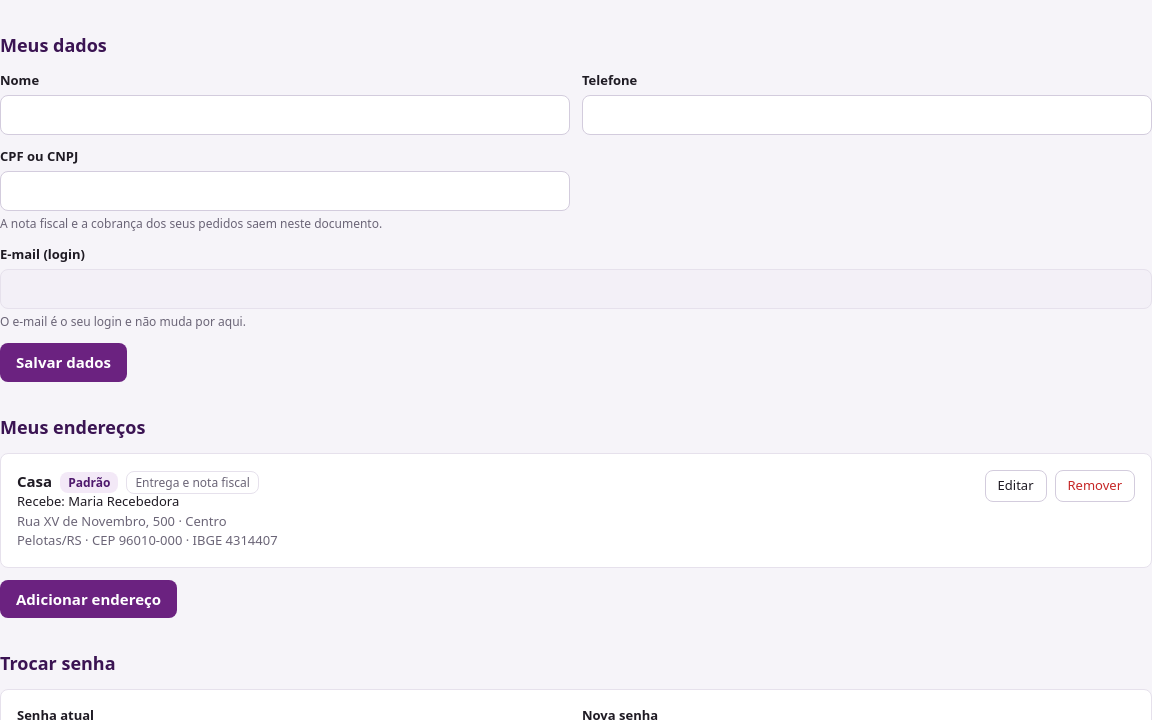
Test: GAP-PRD-115 — Minha conta: editar o endereço › "Editar" abre o formulário preenchido, e salvar manda PUT com o que mudou
Click the button with aria-label "Editar Casa". click: (1016, 486)
box: [985, 470, 1046, 502]
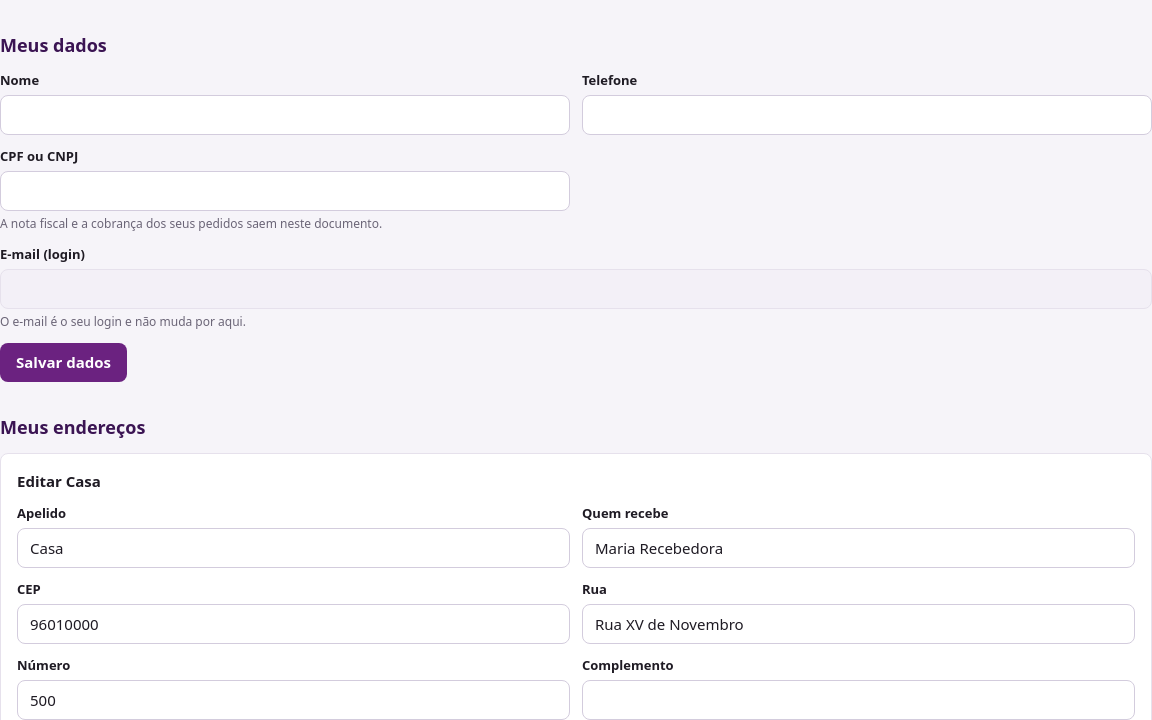
Now the field labelled "Número" holds "500"
Now the field labelled "Quem recebe" holds "Maria Recebedora", box [582, 528, 1135, 568]
Replace the text in the field labelled "Número" with "502". click: (294, 700)
box: [17, 680, 570, 719]
(page scrolled)
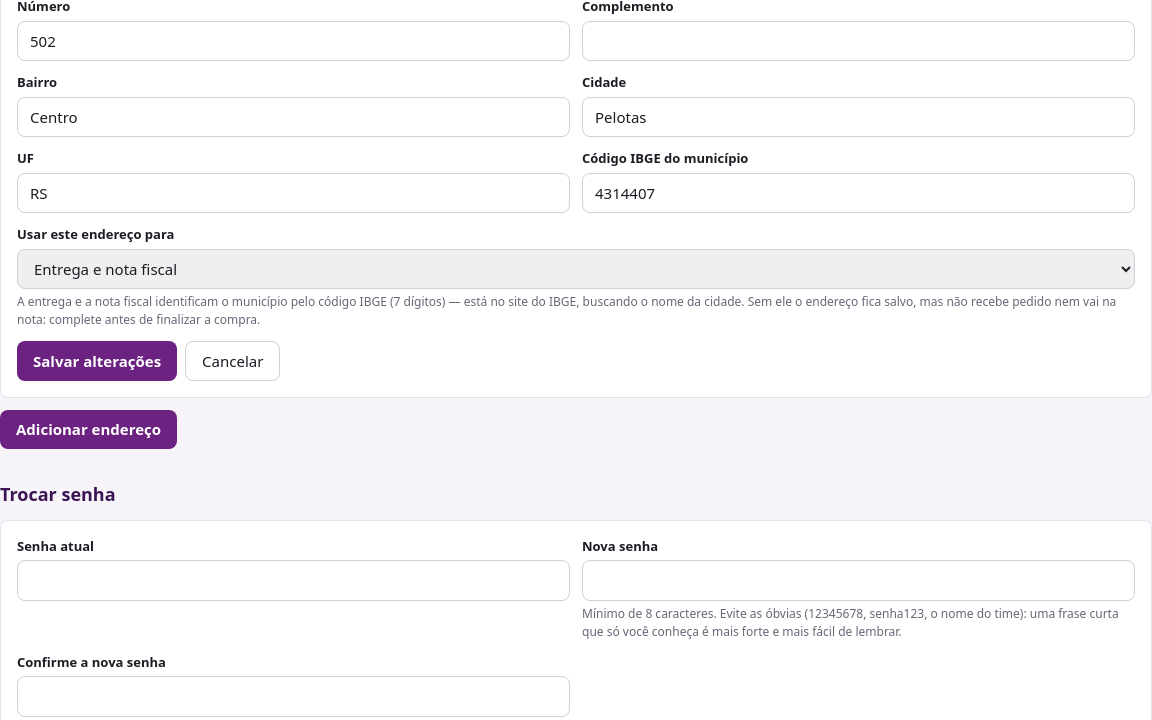
Click the button "Salvar alterações". click: (97, 361)
box: [17, 340, 177, 381]
(page scrolled)
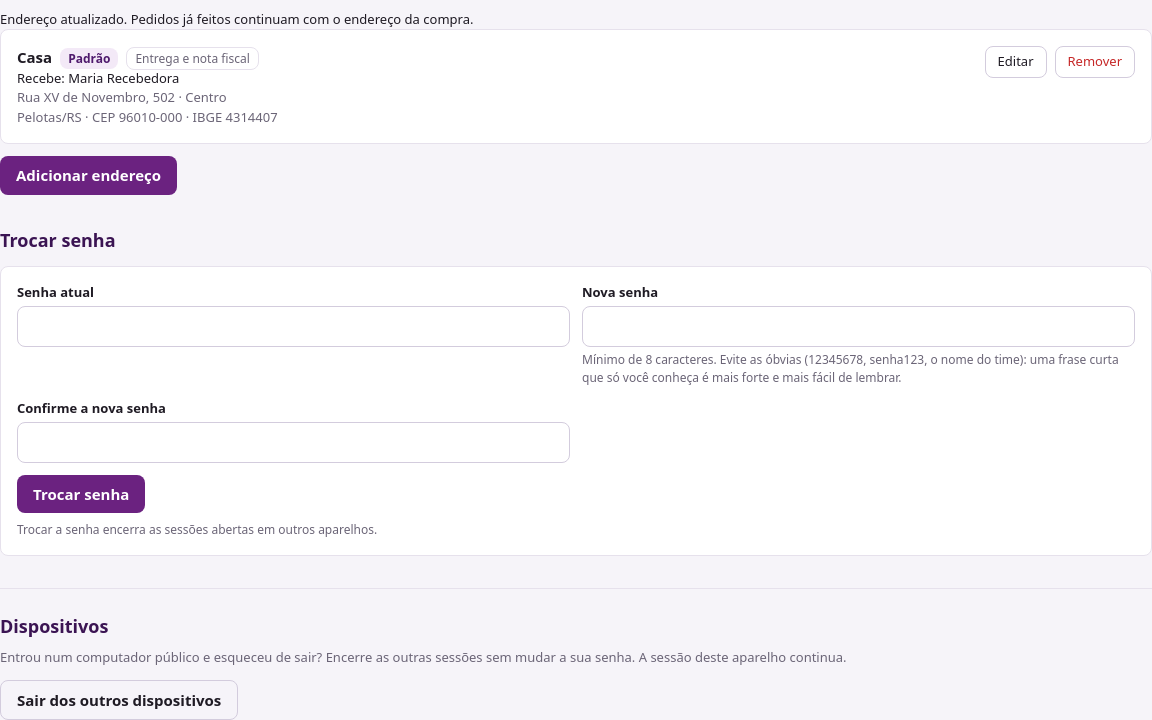
Now the text "Endereço atualizado. Pedidos já feitos continuam com o endereço da compra." is shown, box [0, 10, 473, 28]
Now the text "Rua XV de Novembro, 502 · Centro" is shown, box [17, 88, 226, 106]
